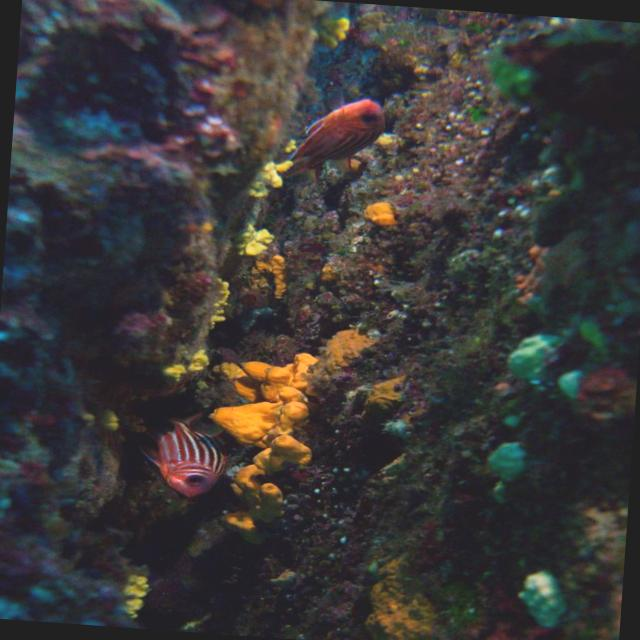Asker Baligi: (278, 89, 390, 186), (136, 410, 232, 500)
